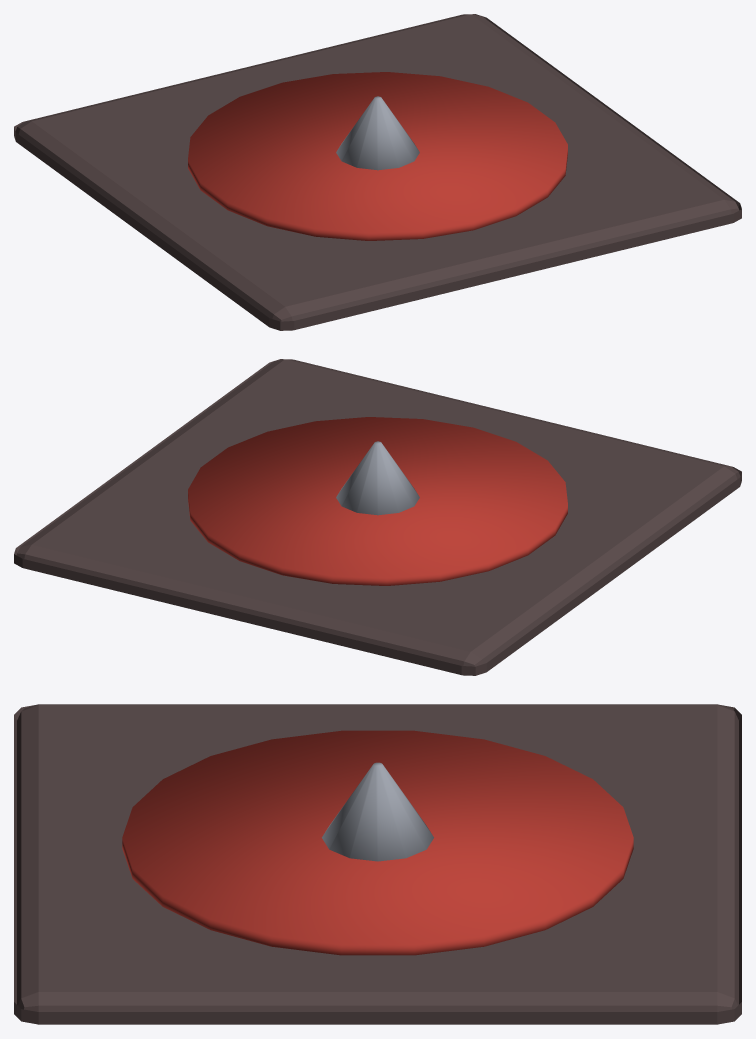
Rendered from trap_damage.glb.
3 views of the same model, one above another, from view 1: azimuth 30°, elevation 25°; view 2: azimuth 150°, elevation 25°; view 3: azimuth 270°, elevation 25° (orthographic). The views are drawn at different scales.
Visible parts, largest first — view 1: trap_damage; view 2: trap_damage; view 3: trap_damage.
Part boxes in pixels (left/top/right/bottom): trap_damage: left=14, top=14, right=741, bottom=330; trap_damage: left=14, top=359, right=741, bottom=675; trap_damage: left=14, top=704, right=741, bottom=1024.
Size of the model in its own units: 0.74 by 0.13 by 0.74.
